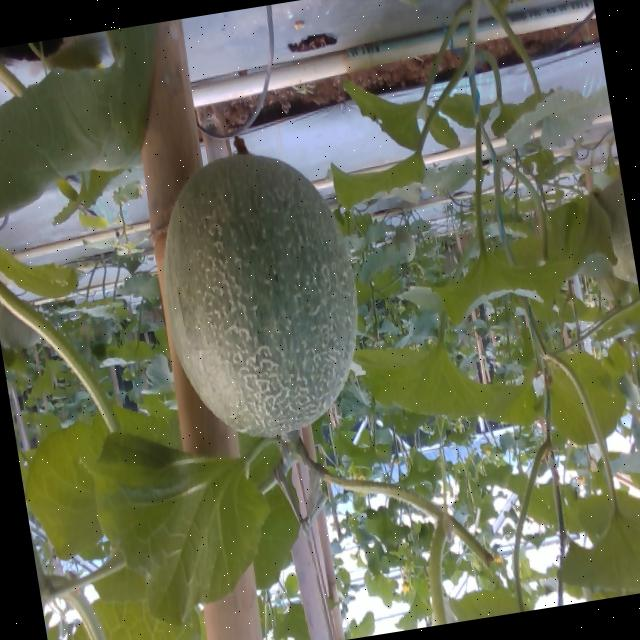melon: (162, 153, 356, 435)
